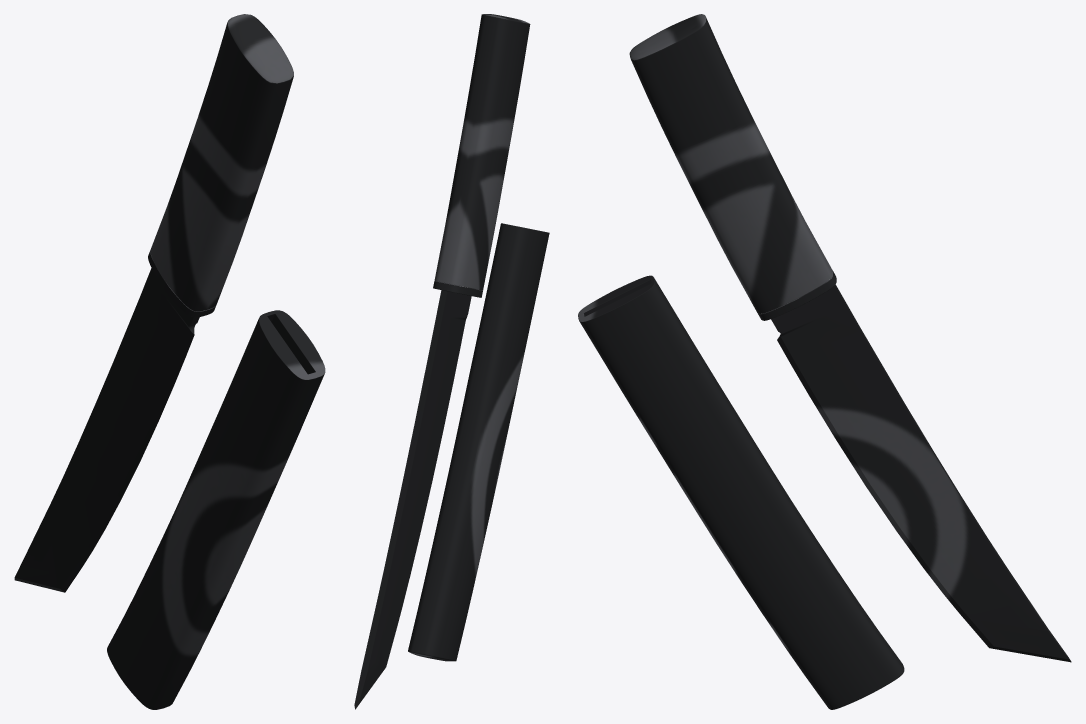
Rendered from tanto.glb.
3 views of the same model, side by side, from view 1: azimuth 30°, elevation 25°; view 2: azimuth 150°, elevation 25°; view 3: azimuth 270°, elevation 25° (orthographic). The views are drawn at different scales.
Visible parts, largest first — view 1: Tanto_1; view 2: Tanto_1; view 3: Tanto_1.
Part boxes in pixels (left/top/right/bottom): Tanto_1: left=14, top=14, right=325, bottom=709; Tanto_1: left=354, top=14, right=549, bottom=709; Tanto_1: left=578, top=14, right=1071, bottom=709.
Bounding box in the file's own units: 0.0366 × 0.4496 × 0.2907.
1 material, 1 textured.
